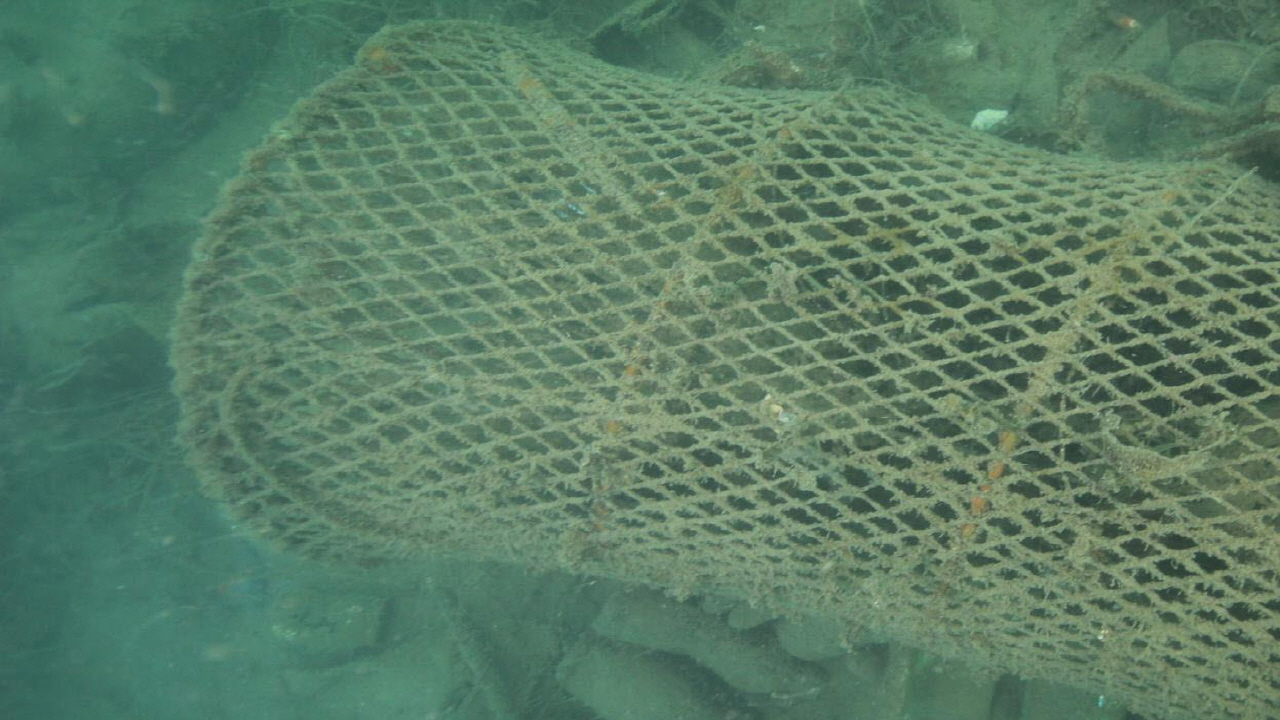spring fish trap: (167, 21, 1280, 720)
